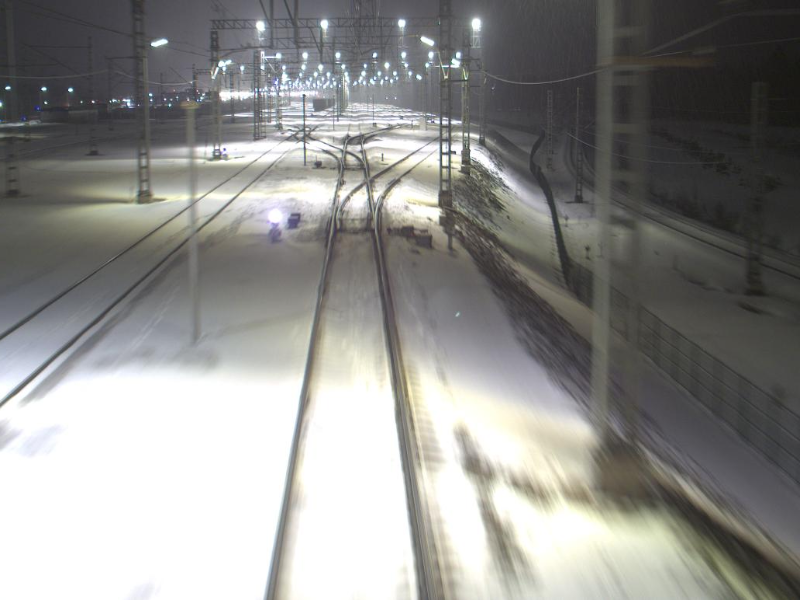left: (331, 178, 380, 231), (338, 148, 366, 169)
